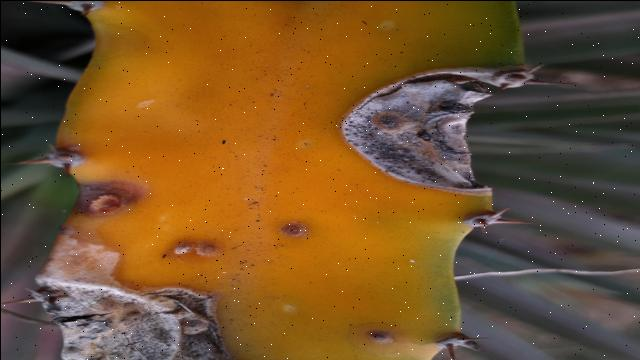stemcanker: (59, 174, 150, 220), (156, 235, 223, 265), (345, 323, 400, 350), (275, 220, 313, 241)
